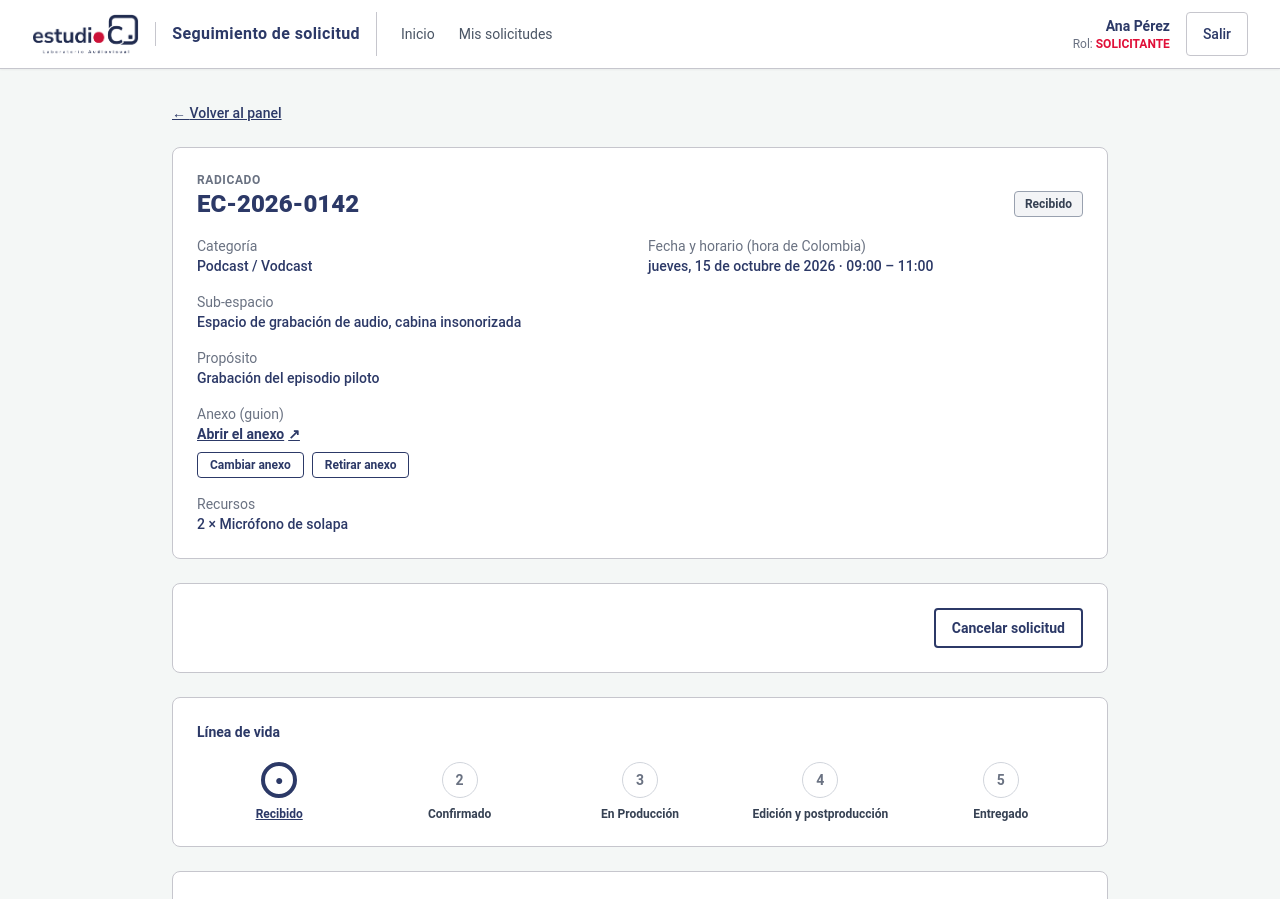
Test: DetalleSolicitud · edición del anexo por el dueño (Fase 9 · K3) › agregar, cambiar y retirar › sin_cambios: true es un éxito; se pinta SOLO la solicitud devuelta y su mensaje, sin otra petición
Click the button "Cambiar anexo". click: (250, 465)
box: [197,452,304,478]
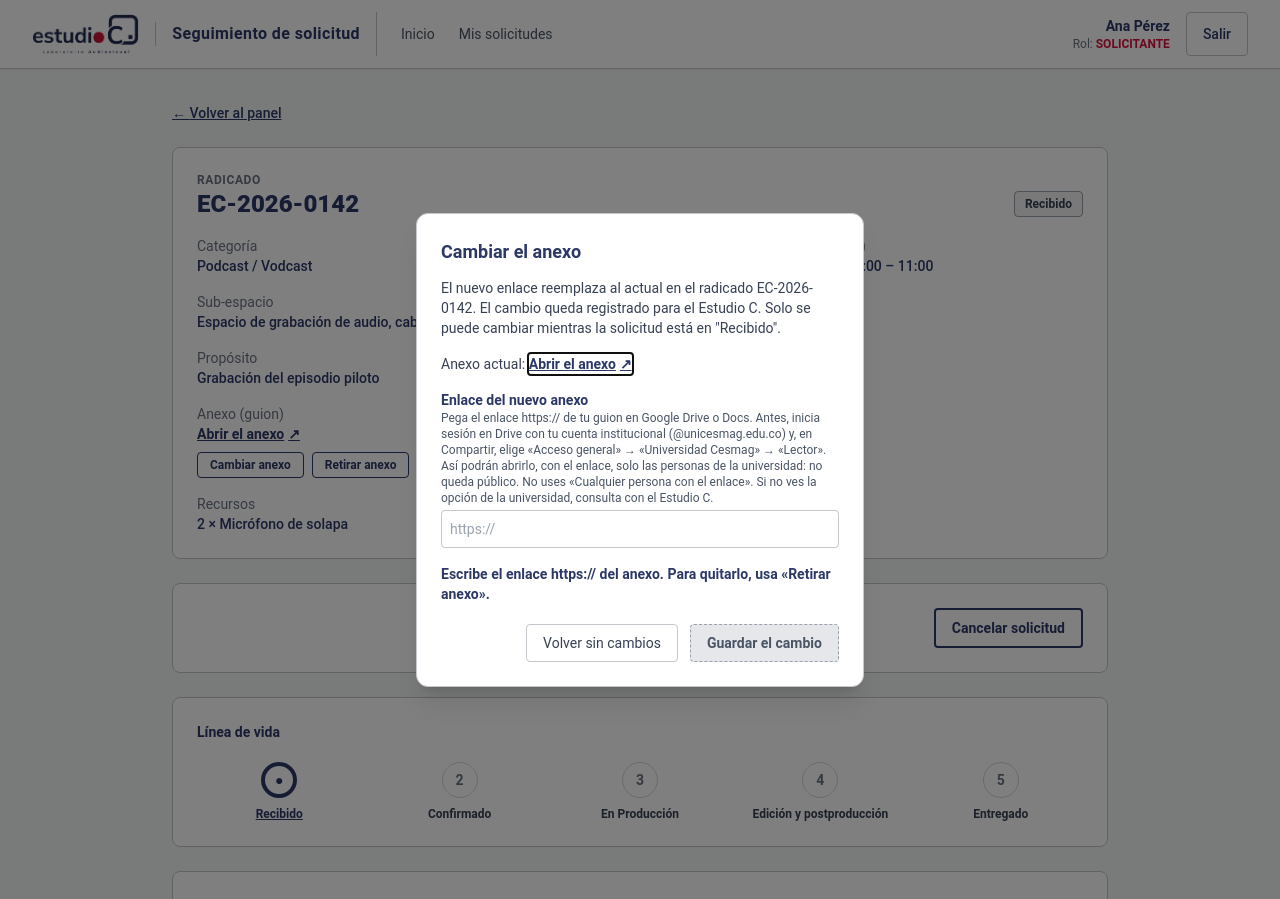
Type "https://docs.google.com/document/d/ZyX_2/edit" into the field labelled "Enlace del nuevo anexo". click: (640, 529)
box: [441,510,839,548]
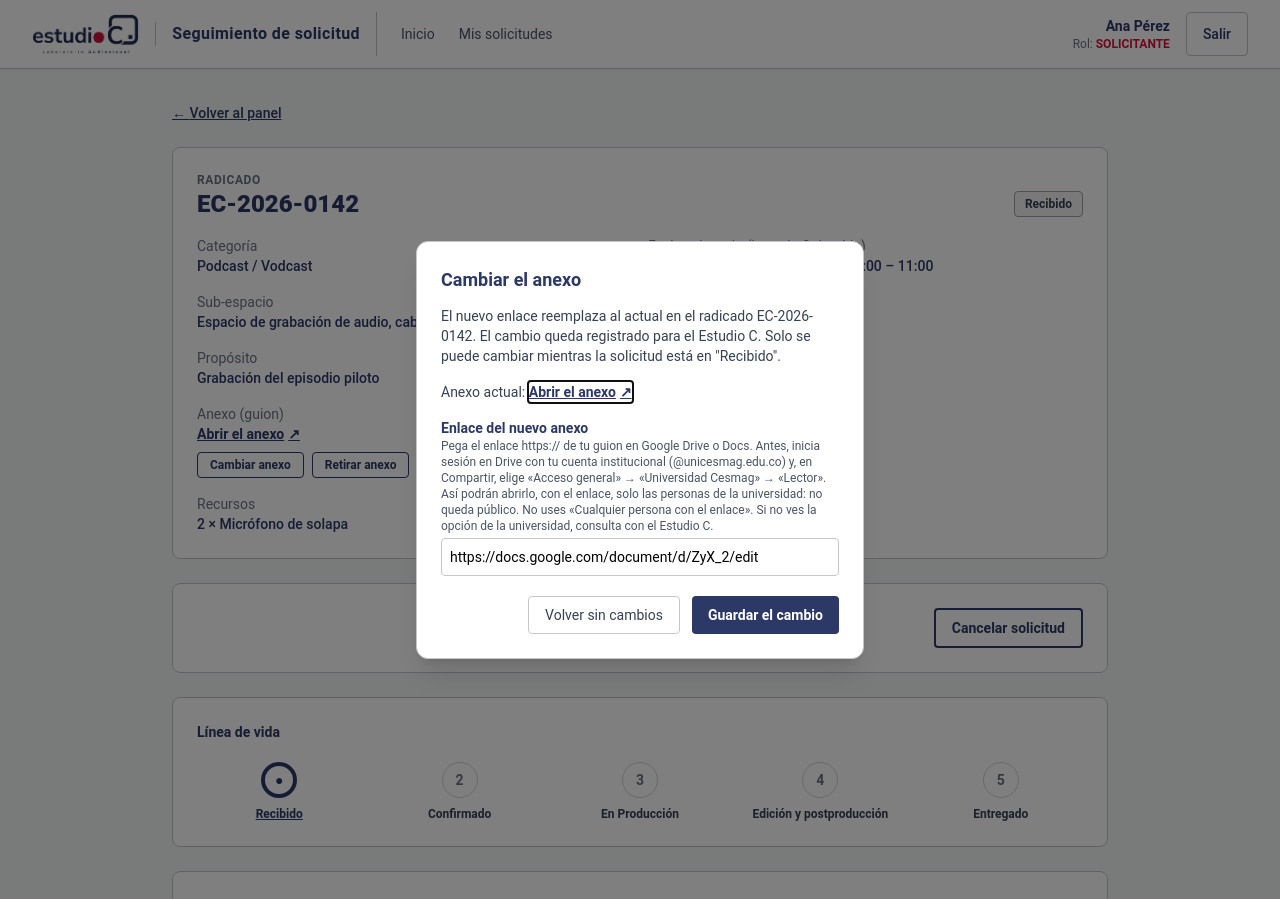
Click the button "Guardar el cambio". click: (765, 615)
box: [692,596,839,634]
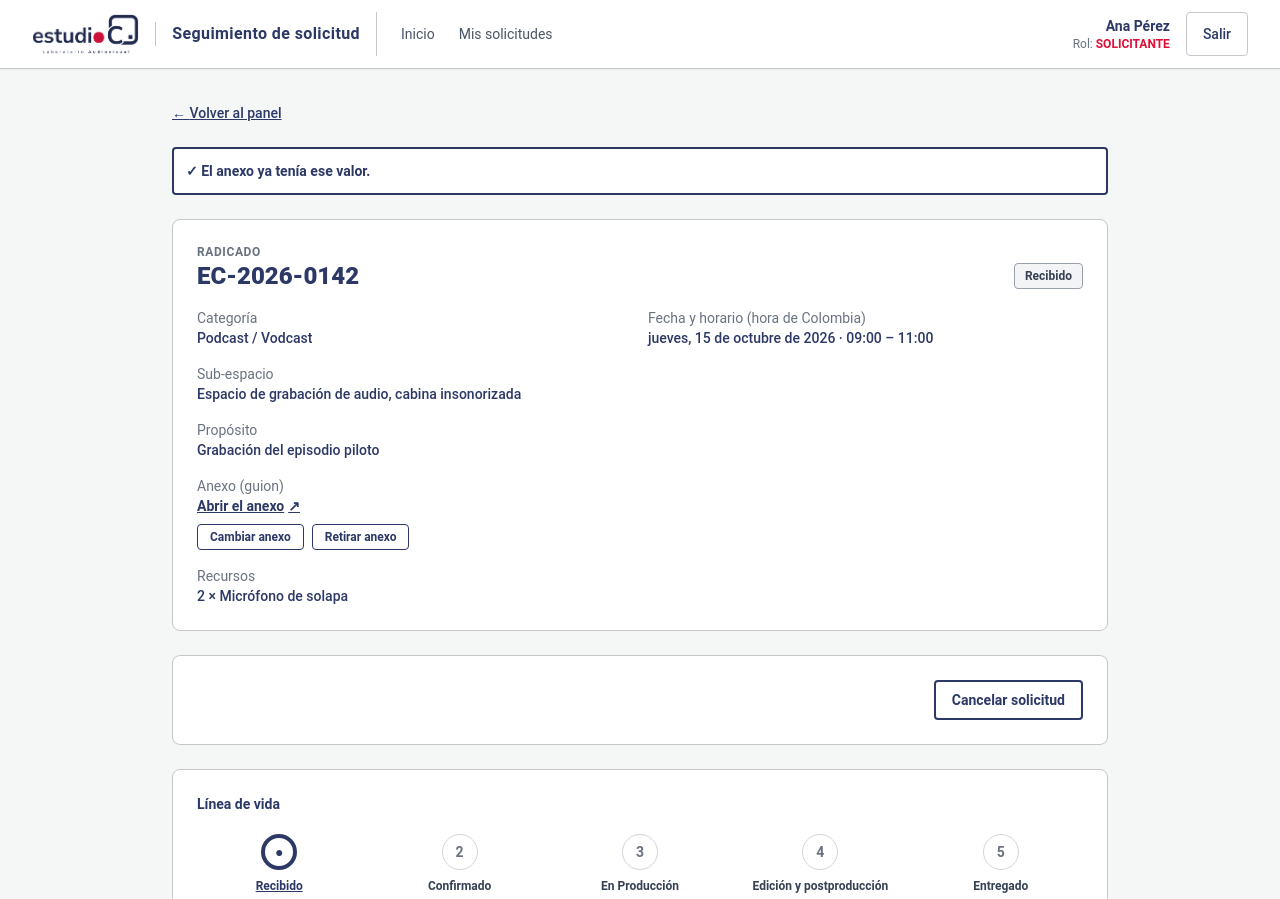
Now the element showing "✓ El anexo ya tenía ese valor." is shown, box [172,147,1108,195]
